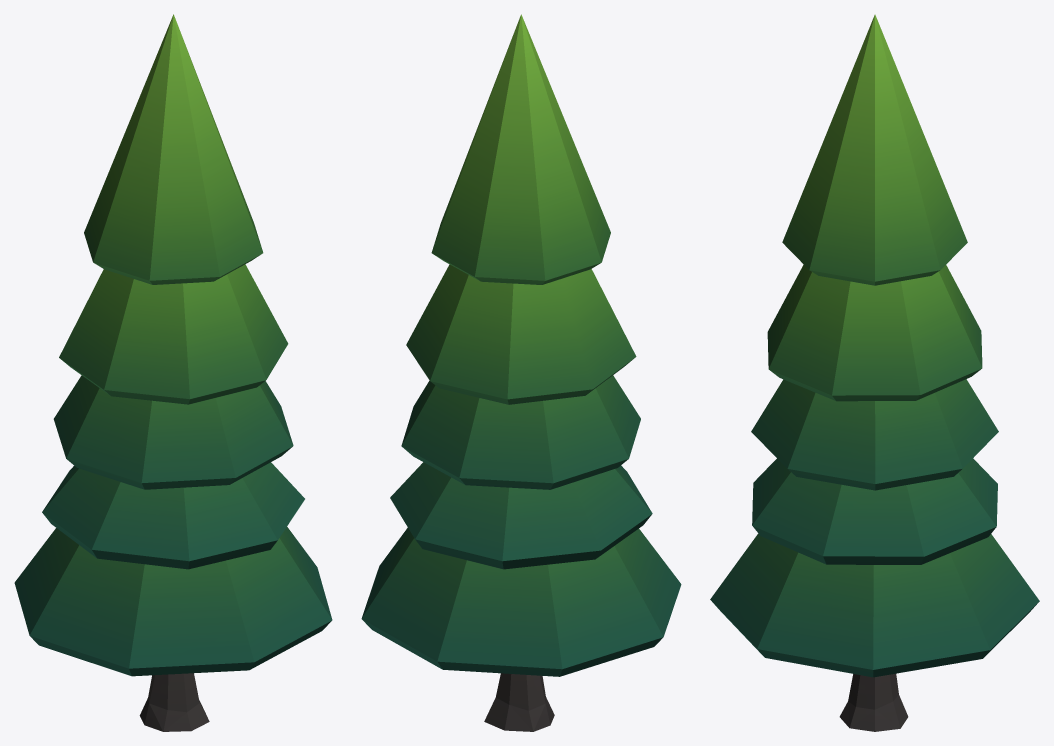
File: Gzhonglvse.FBX
3 renders of one model, left to right at view 1: azimuth 30°, elevation 25°; view 2: azimuth 150°, elevation 25°; view 3: azimuth 270°, elevation 25°, orthographic.
Parts seen in each view (by area): view 1: PineTree_A_01 - Default_0; view 2: PineTree_A_01 - Default_0; view 3: PineTree_A_01 - Default_0.
Boxes of the visible parts, x1,y1,x2,y2 form: PineTree_A_01 - Default_0: (14, 14, 332, 731); PineTree_A_01 - Default_0: (361, 14, 681, 731); PineTree_A_01 - Default_0: (710, 14, 1039, 731).
Bounding box in the file's own units: 28.79 × 67.71 × 28.79.
